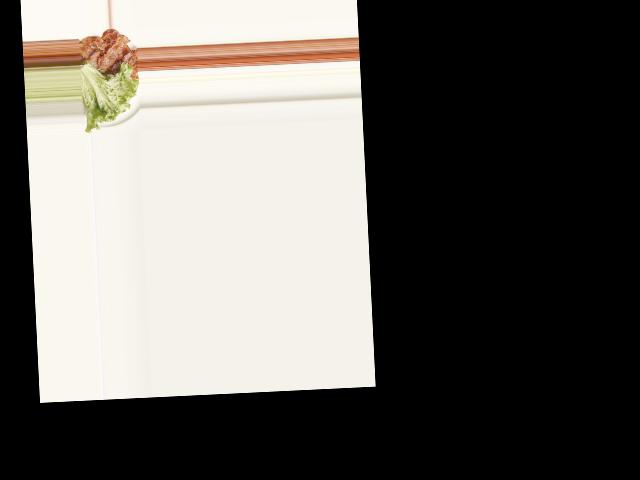lettuce: (79, 62, 139, 129)
